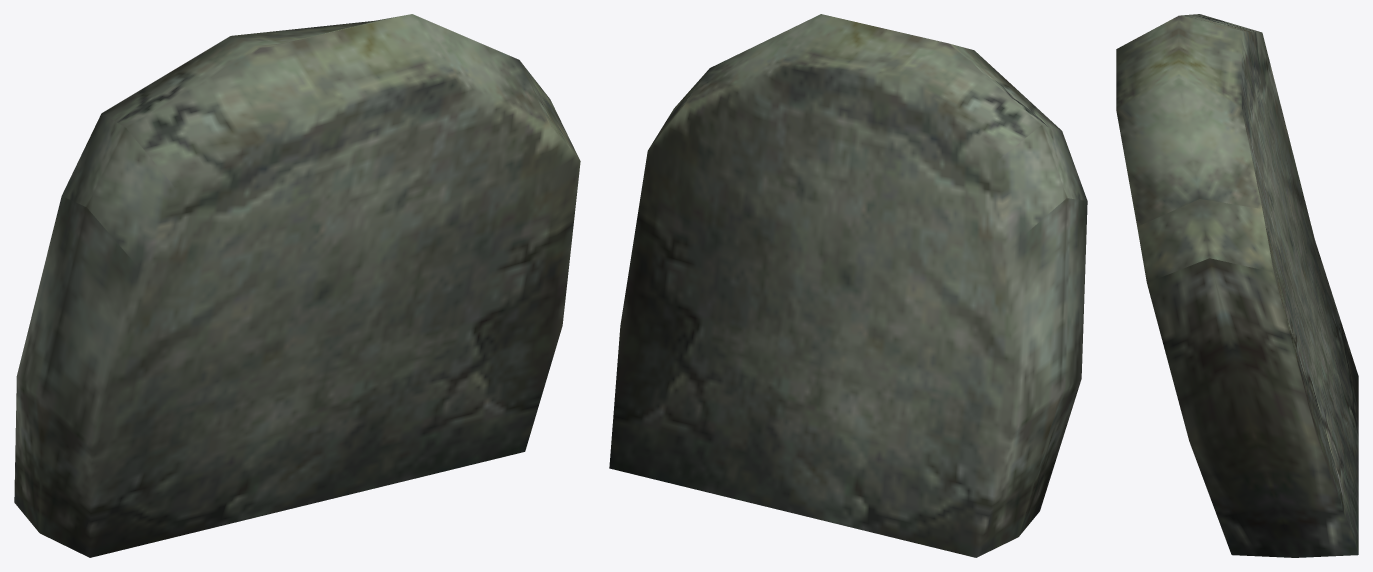
The model's file is KQZD_mubei_5.FBX.
3 views of the same model, side by side, from view 1: azimuth 30°, elevation 25°; view 2: azimuth 150°, elevation 25°; view 3: azimuth 270°, elevation 25° (orthographic). The views are drawn at different scales.
Visible parts, largest first — view 1: KQZD_mubei_5; view 2: KQZD_mubei_5; view 3: KQZD_mubei_5.
Part boxes in pixels (x1,y1,x2,y2): KQZD_mubei_5: [14, 14, 580, 557]; KQZD_mubei_5: [609, 14, 1087, 557]; KQZD_mubei_5: [1116, 14, 1358, 557].
Bounding box in the file's own units: 77.07 × 39.3 × 74.84.
